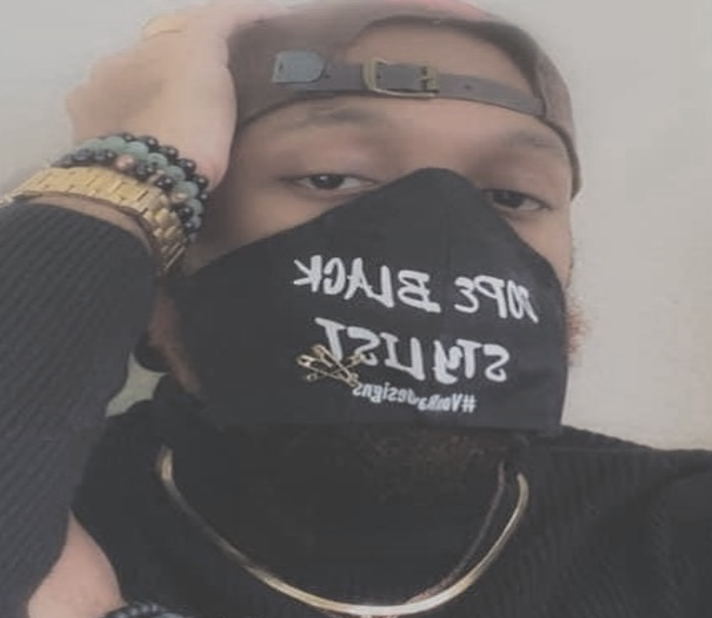mask_weared_incorrect: (119, 0, 604, 504)
